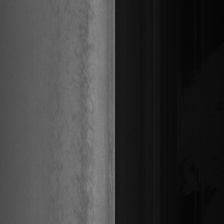silk_spot: (74, 77, 101, 150)
